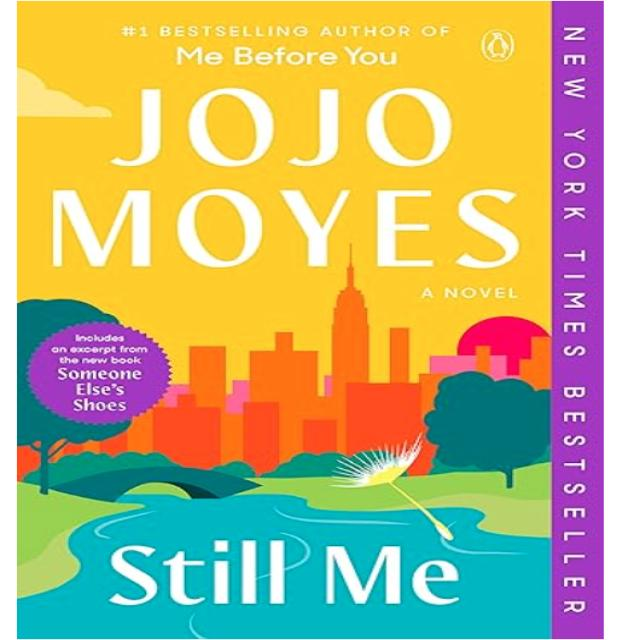titles-or-authors: (36, 80, 528, 276), (95, 534, 475, 620)
